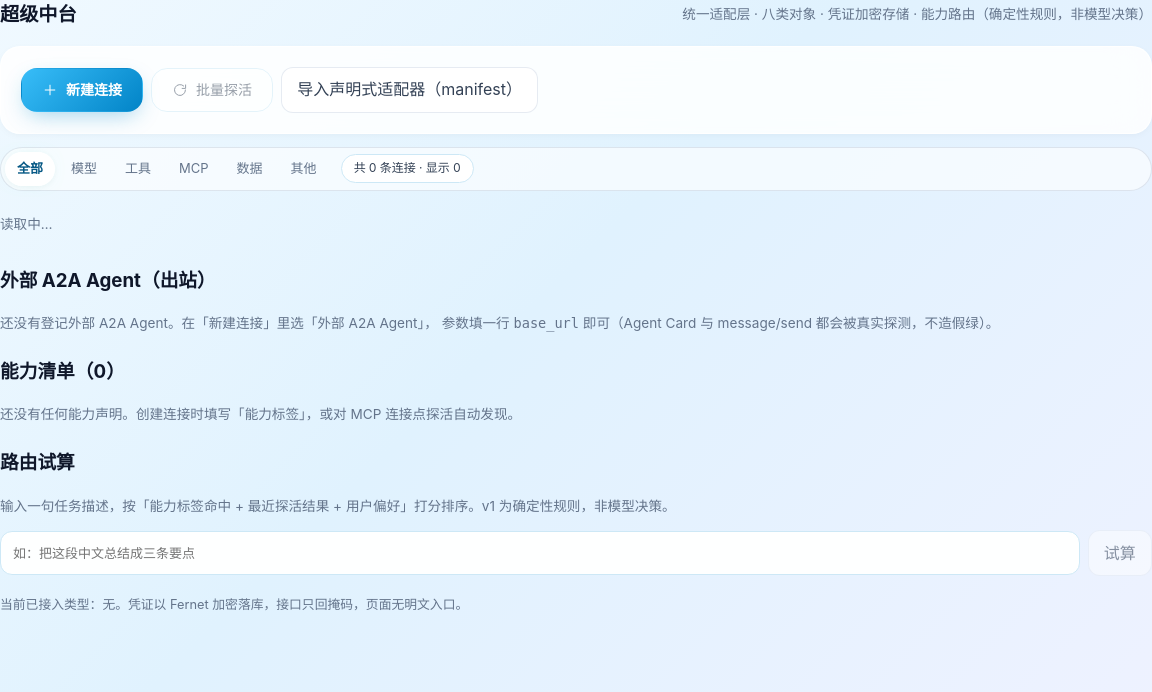
Test: HubPage › manifest 导入失败时把后端原因原样透出
Click the button with test id "hub-manifest-open": [410, 90] box [281,67,538,113]
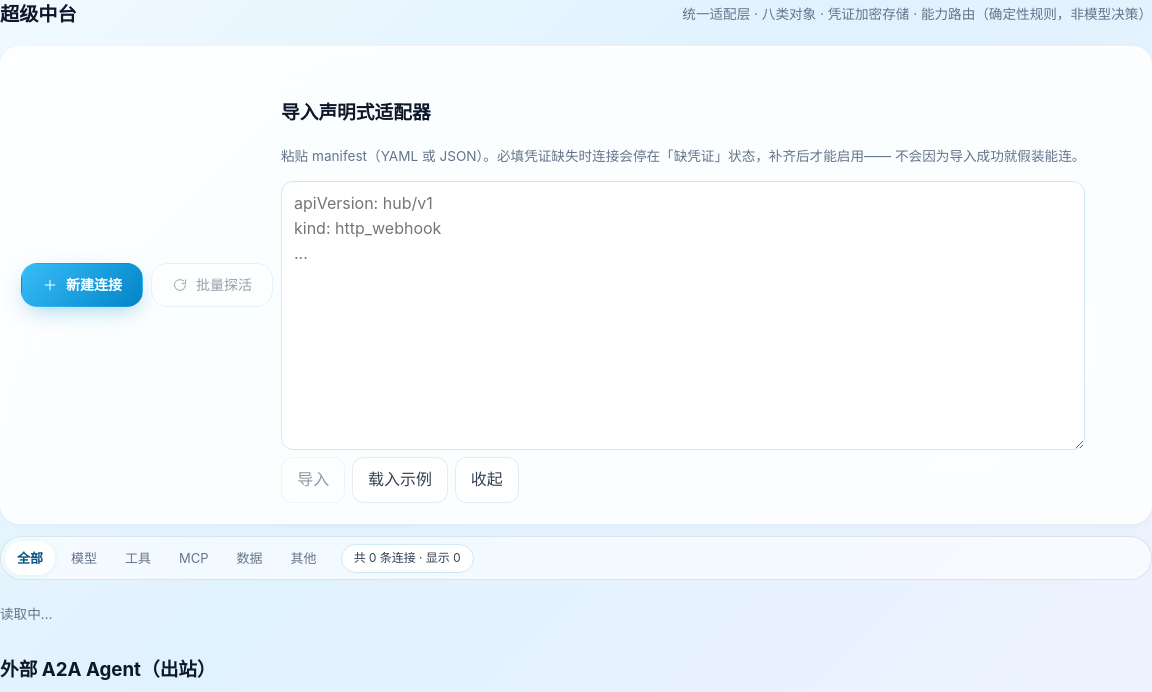
In the text box with test id "hub-manifest-text": [683, 315] box [281,181,1085,450], type "apiVersion: hub/v1"
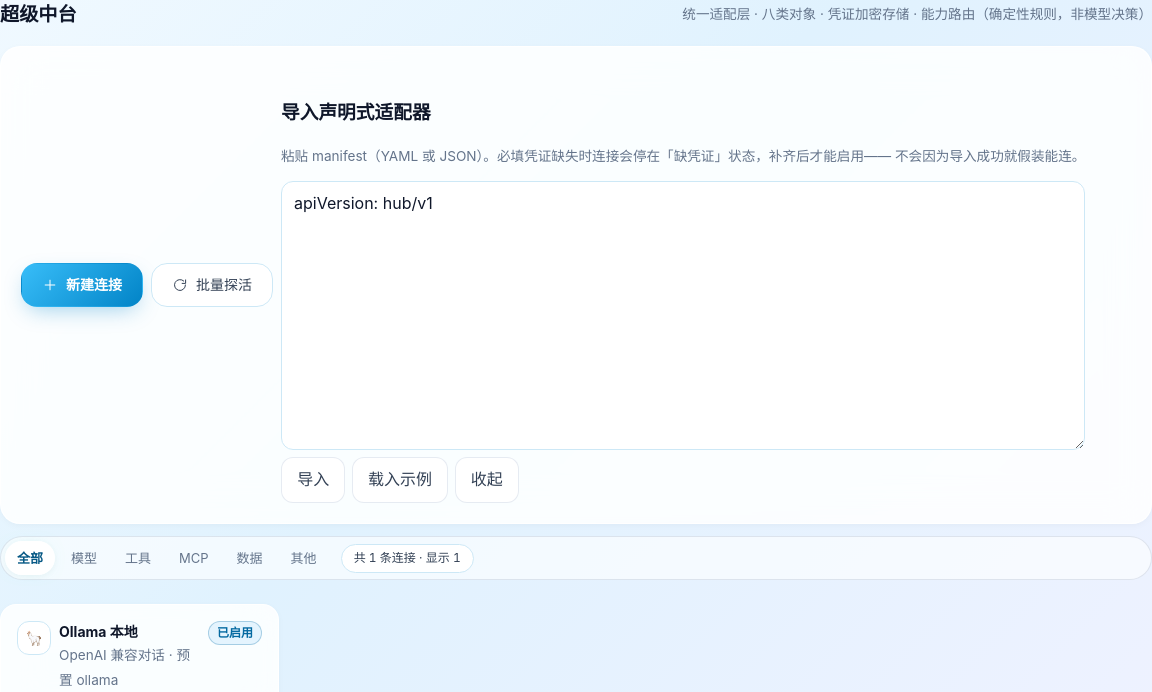
Click the button with test id "hub-manifest-submit": [313, 480] box [281,457,345,503]
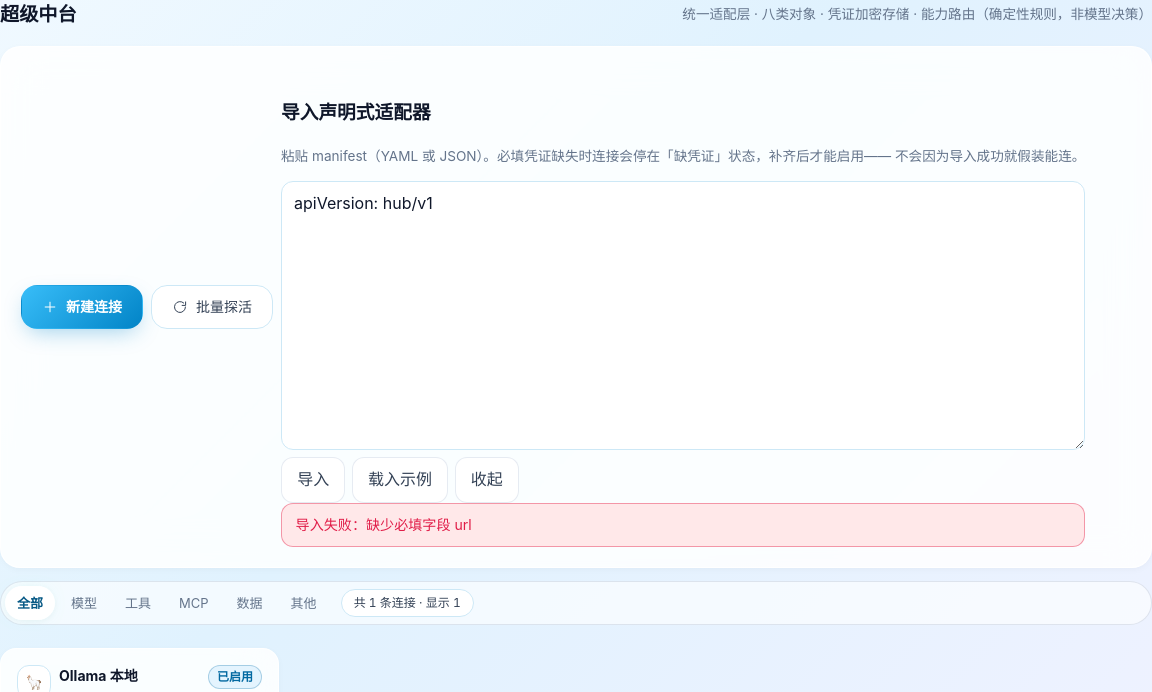
Check: the text "导入失败：缺少必填字段 url" is shown, box [281,503,1085,547]
Check: the text with test id "hub-manifest-error" shows "缺少必填字段 url", box [296,516,472,533]
